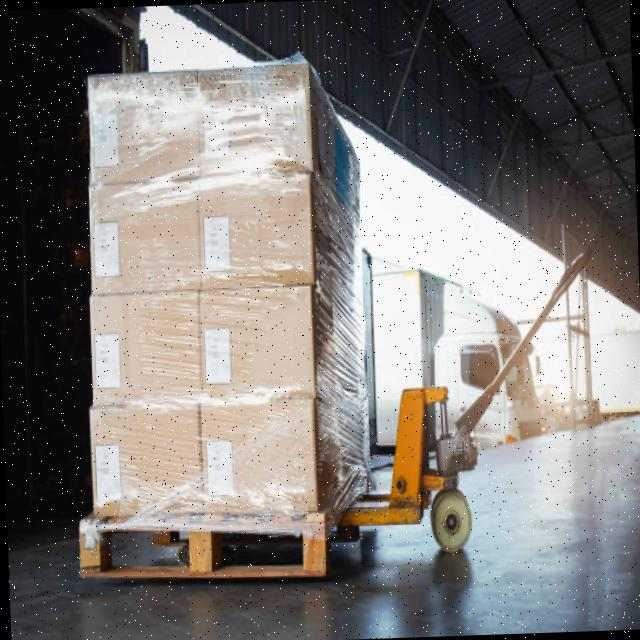Wooden-Pallets: (72, 509, 333, 579)
